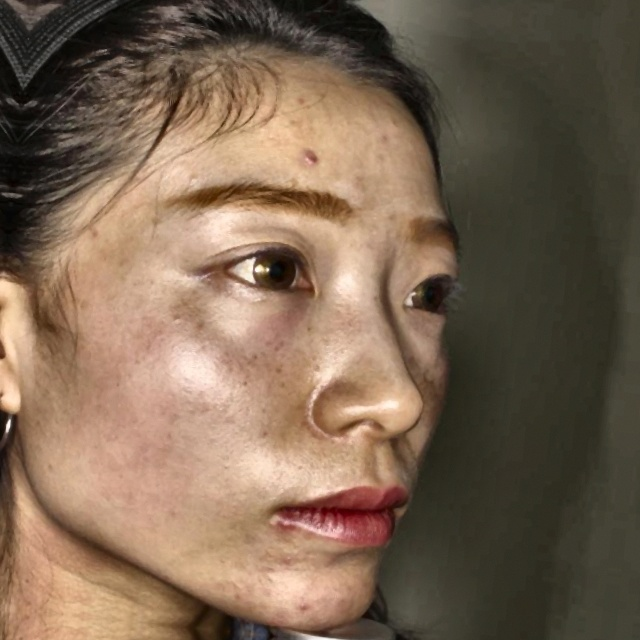comedone: (296, 143, 322, 166), (291, 597, 314, 619)
